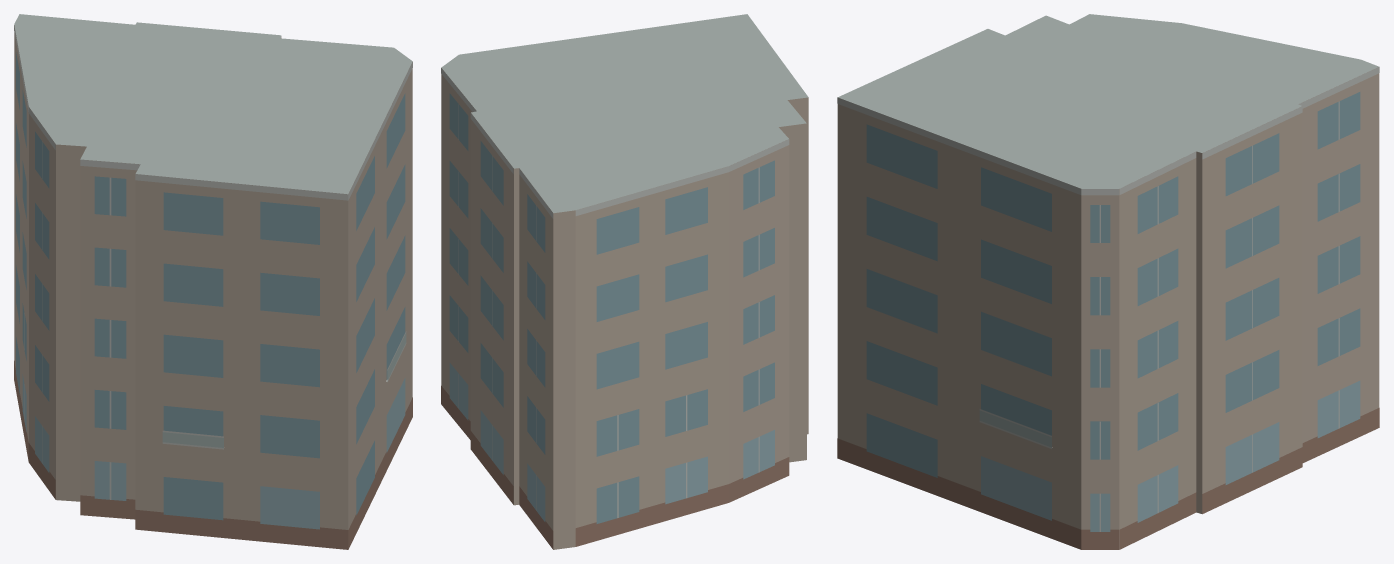
Rendered from survey-upis-32867624.glb.
The picture shows the model from 3 angles, left to right: view 1: azimuth 30°, elevation 25°; view 2: azimuth 150°, elevation 25°; view 3: azimuth 270°, elevation 25°; orthographic projection. The views are drawn at different scales.
Visible parts, largest first — view 1: survey-upis-32867624.tmp; view 2: survey-upis-32867624.tmp; view 3: survey-upis-32867624.tmp.
Boxes of the visible parts, <box> form: survey-upis-32867624.tmp: <box>14,14,412,549</box>; survey-upis-32867624.tmp: <box>441,14,808,549</box>; survey-upis-32867624.tmp: <box>837,14,1379,549</box>.
Bounding box in the file's own units: 14.14 × 13.6 × 18.5.
